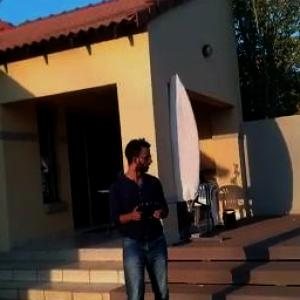follow: (106, 135, 183, 299)
